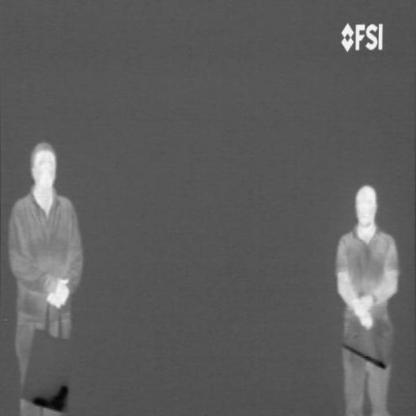weapon: (31, 381, 69, 414)
